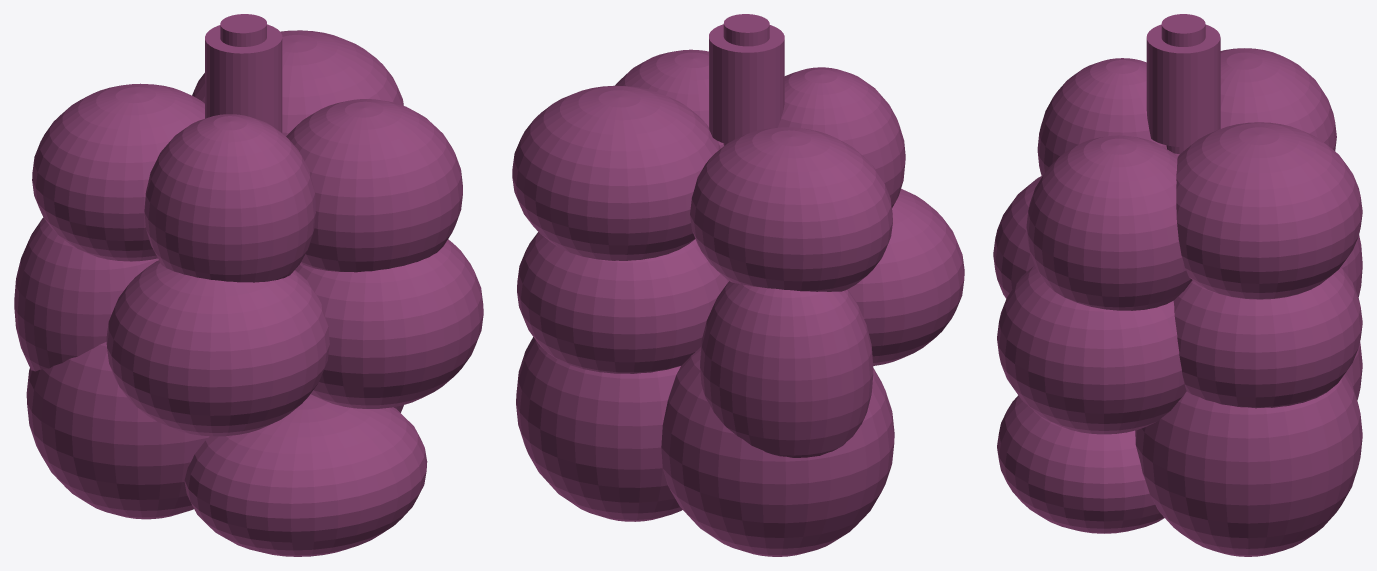
The model's file is purple_grapes.glb.
3 views of the same model, side by side, from view 1: azimuth 30°, elevation 25°; view 2: azimuth 150°, elevation 25°; view 3: azimuth 270°, elevation 25° (orthographic). The views are drawn at different scales.
Visible parts, largest first — view 1: purple_grapes; view 2: purple_grapes; view 3: purple_grapes.
Boxes of the visible parts, box(x1,y1,x2,y2) form: purple_grapes: box(14, 14, 483, 556); purple_grapes: box(512, 14, 964, 556); purple_grapes: box(993, 14, 1362, 556).
Bounding box in the file's own units: 0.037 × 0.049 × 0.034.
